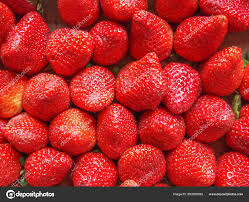Fresa: (1, 9, 55, 75), (114, 51, 168, 114), (183, 87, 236, 149), (135, 97, 189, 154), (195, 42, 247, 101), (172, 11, 230, 63), (43, 25, 97, 79), (47, 105, 102, 158), (94, 99, 140, 162), (22, 71, 75, 123), (126, 8, 175, 63), (165, 135, 216, 187), (159, 60, 206, 115), (67, 63, 117, 114), (3, 108, 54, 156), (115, 142, 168, 185), (22, 143, 73, 187), (89, 18, 132, 68), (69, 148, 116, 186)
